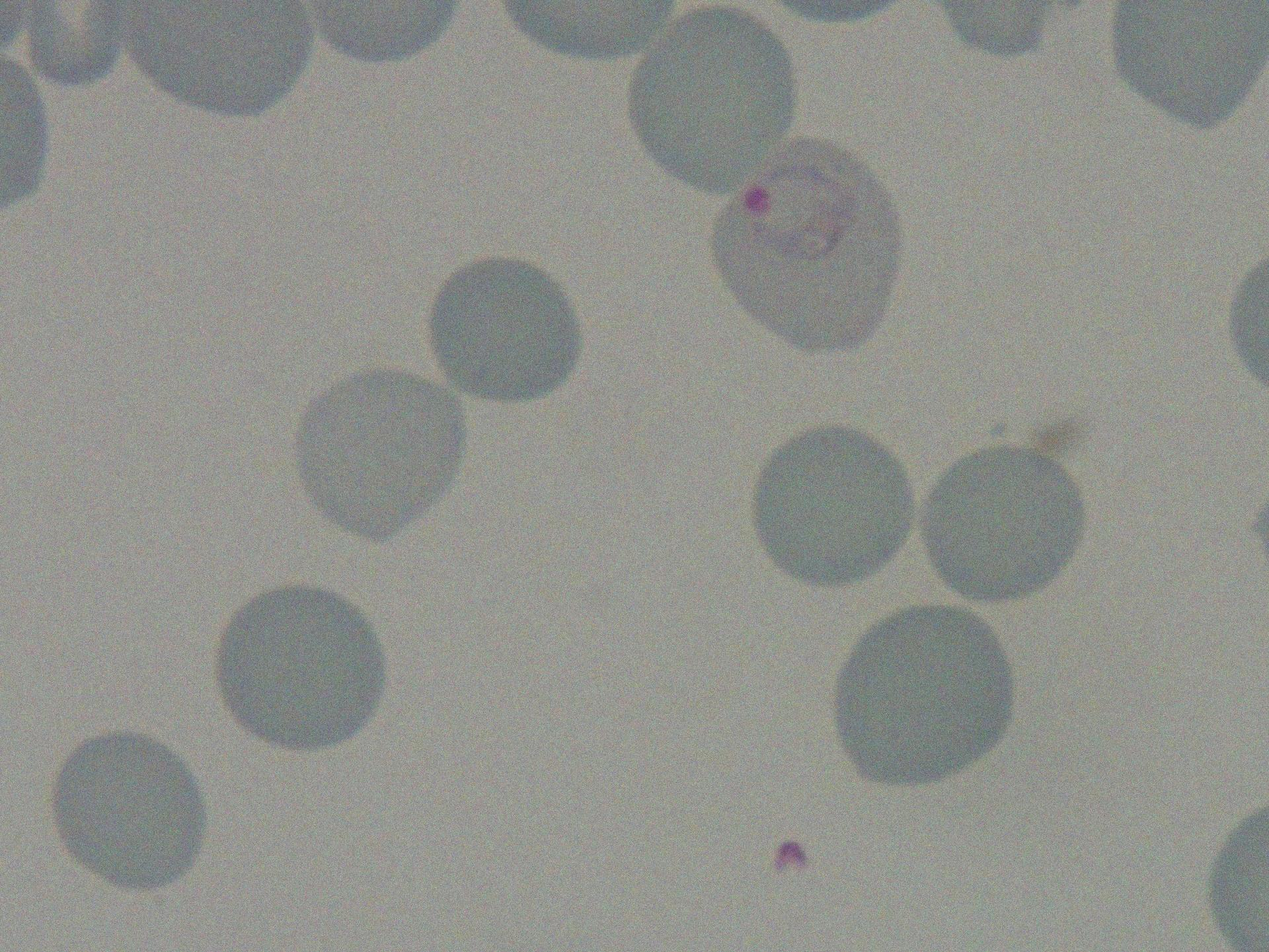Infected: (710, 143, 905, 356)
Uninfected: (832, 608, 1016, 789), (628, 7, 798, 190), (295, 368, 471, 542), (218, 584, 386, 751), (919, 443, 1085, 609), (751, 426, 919, 588), (50, 731, 210, 894), (124, 1, 321, 121), (430, 256, 582, 404), (1111, 3, 1266, 131)
